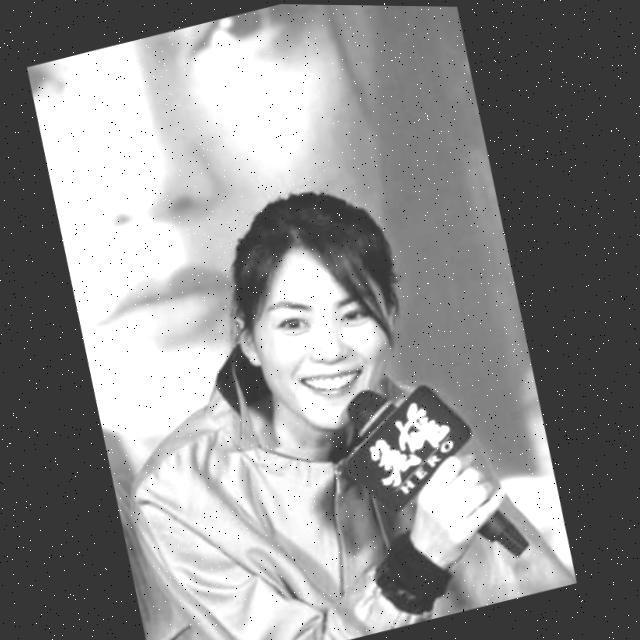face: (229, 211, 412, 456)
